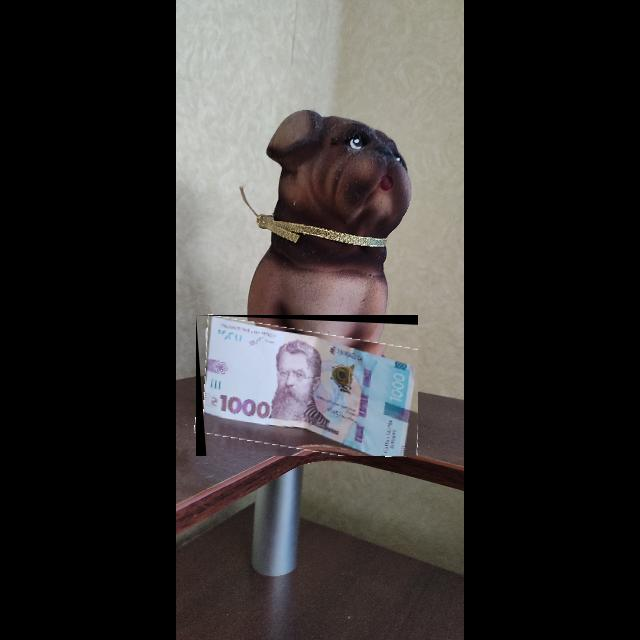1000uah: (202, 316, 419, 457)
